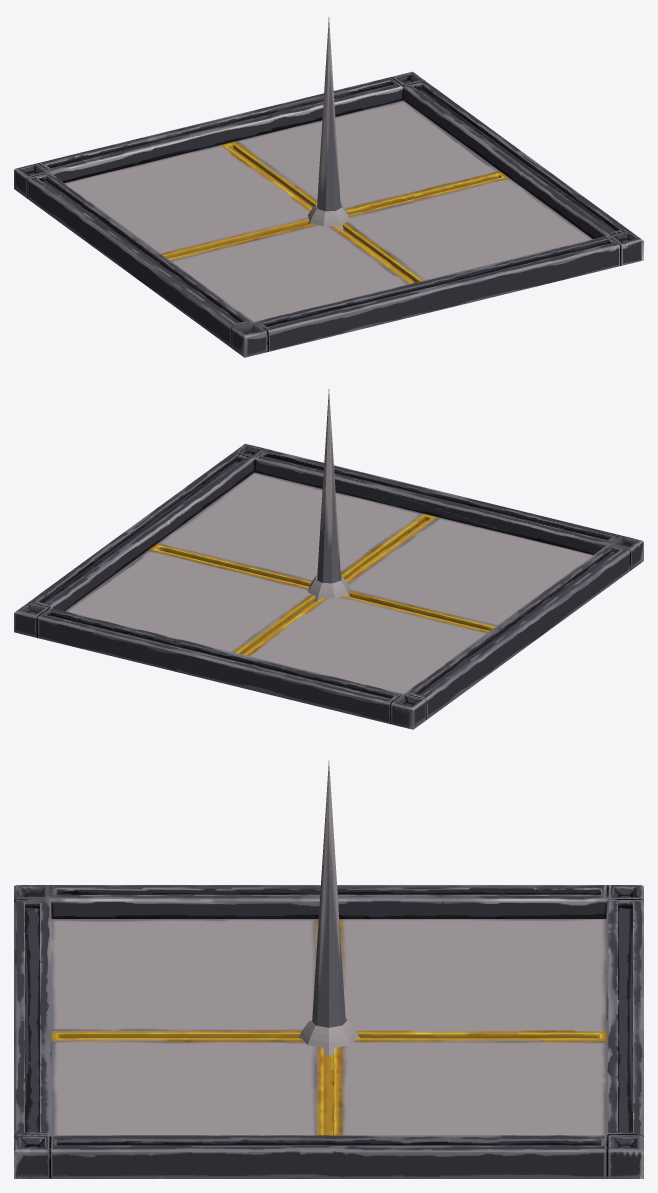
File: SpikeTrap.fbx
The picture shows the model from 3 angles, top to bottom: view 1: azimuth 30°, elevation 25°; view 2: azimuth 150°, elevation 25°; view 3: azimuth 270°, elevation 25°; orthographic projection. The views are drawn at different scales.
Parts seen in each view (by area): view 1: SpikeTrap, Spike, SpikeH; view 2: SpikeTrap, Spike, SpikeH; view 3: SpikeTrap, Spike, SpikeH.
Part boxes in pixels (x1=…): SpikeTrap: x1=14, y1=71, x2=643, y2=357; Spike: x1=317, y1=17, x2=340, y2=211; SpikeH: x1=308, y1=203, x2=349, y2=230; SpikeTrap: x1=14, y1=443, x2=643, y2=729; Spike: x1=317, y1=389, x2=340, y2=583; SpikeH: x1=308, y1=575, x2=349, y2=602; SpikeTrap: x1=14, y1=885, x2=643, y2=1178; Spike: x1=312, y1=761, x2=345, y2=1027; SpikeH: x1=298, y1=1018, x2=359, y2=1055.
Bounding box in the file's own units: 200 × 101 × 200.
